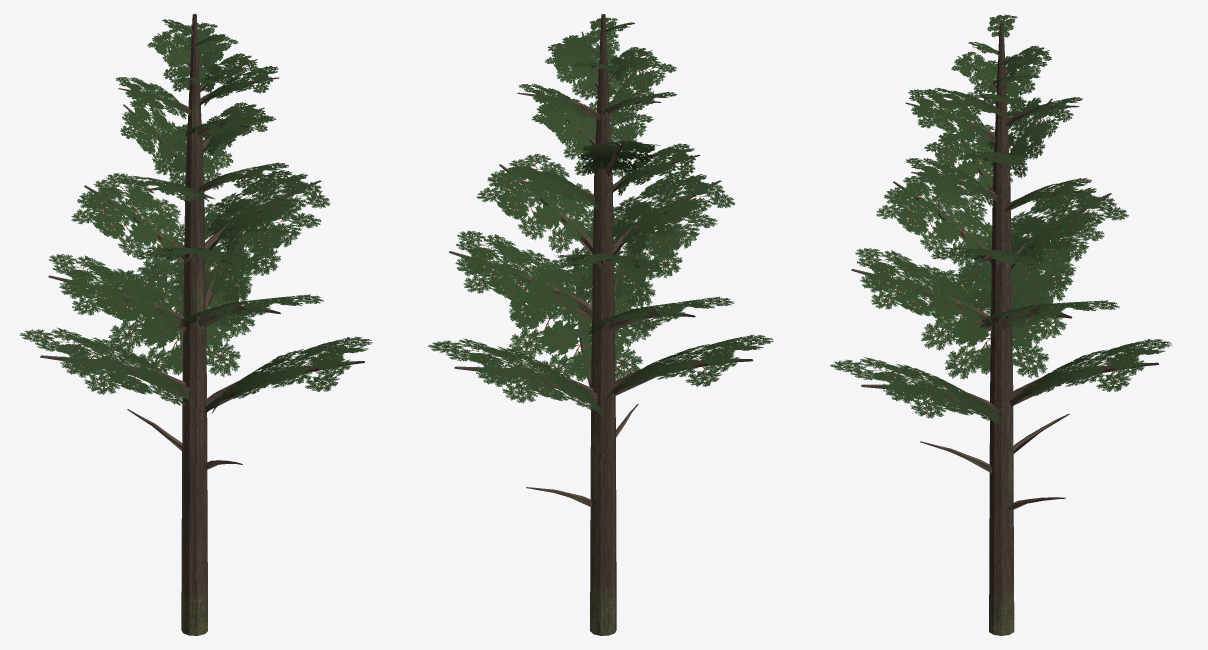
Rendered from Tree05.fbx.
3 renders of one model, left to right at view 1: azimuth 30°, elevation 25°; view 2: azimuth 150°, elevation 25°; view 3: azimuth 270°, elevation 25°, orthographic.
Visible parts, largest first — view 1: Tree5; view 2: Tree5; view 3: Tree5.
Part boxes in pixels (x1,y1,x2,y2): Tree5: (19,14,372,635); Tree5: (427,14,773,635); Tree5: (830,14,1172,635).
Bounding box in the file's own units: 7.2 × 13.69 × 7.55.
